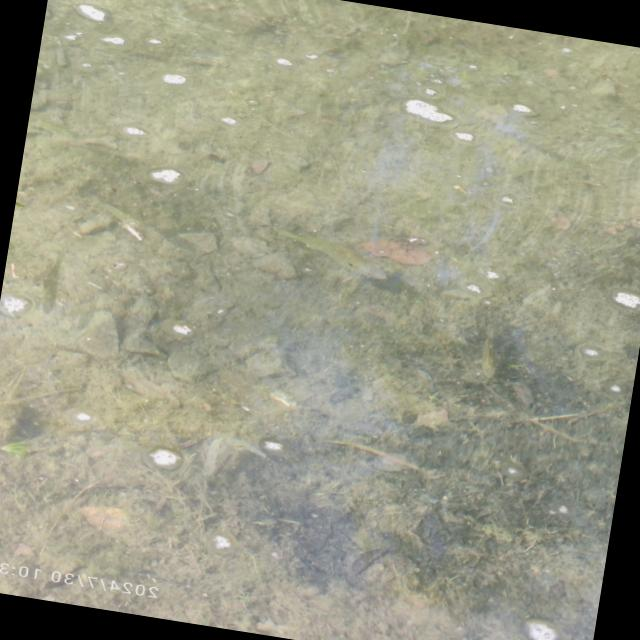Gunes Levregi: (278, 227, 390, 285)
